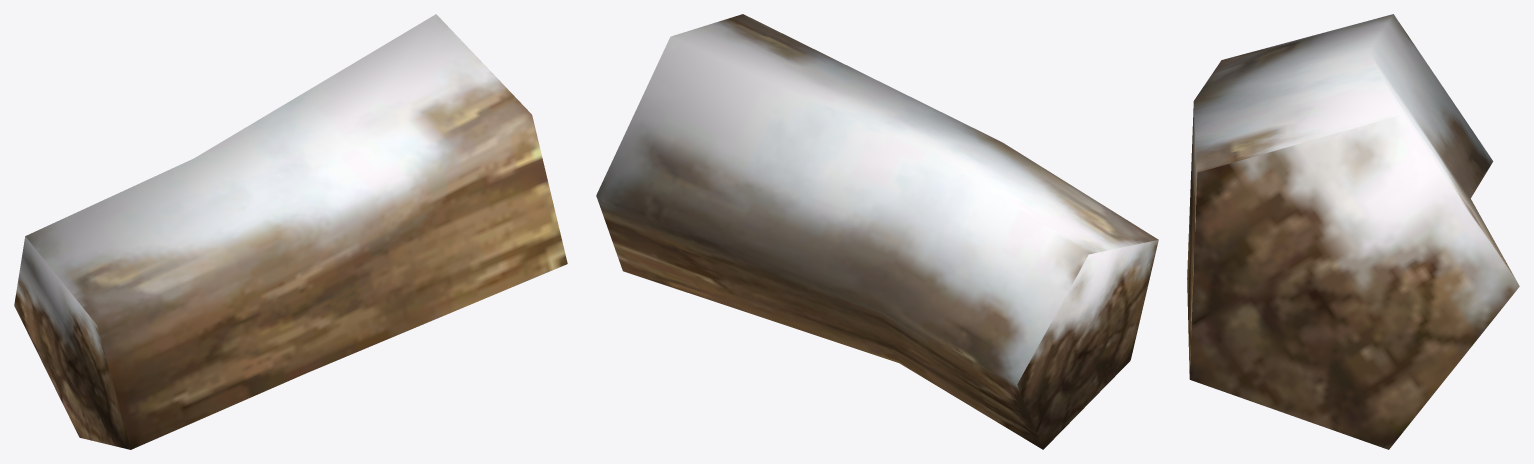
File: SM_Enclosure_18.fbx
3 views of the same model, side by side, from view 1: azimuth 30°, elevation 25°; view 2: azimuth 150°, elevation 25°; view 3: azimuth 270°, elevation 25° (orthographic). The views are drawn at different scales.
Visible parts, largest first — view 1: SM_Enclosure_18; view 2: SM_Enclosure_18; view 3: SM_Enclosure_18.
Part boxes in pixels (x1,y1,x2,y2): SM_Enclosure_18: [14, 14, 567, 449]; SM_Enclosure_18: [596, 14, 1158, 449]; SM_Enclosure_18: [1187, 14, 1519, 449].
Bounding box in the file's own units: 1.51 × 1.02 × 0.7716.
